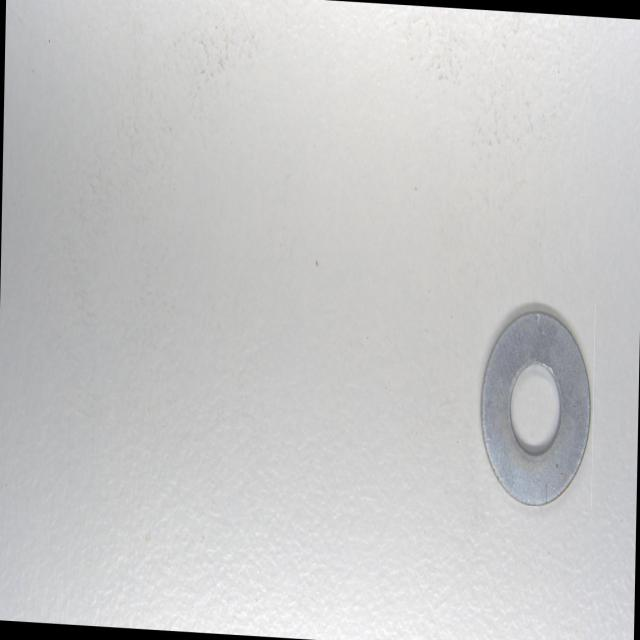washer: (477, 301, 593, 506)
